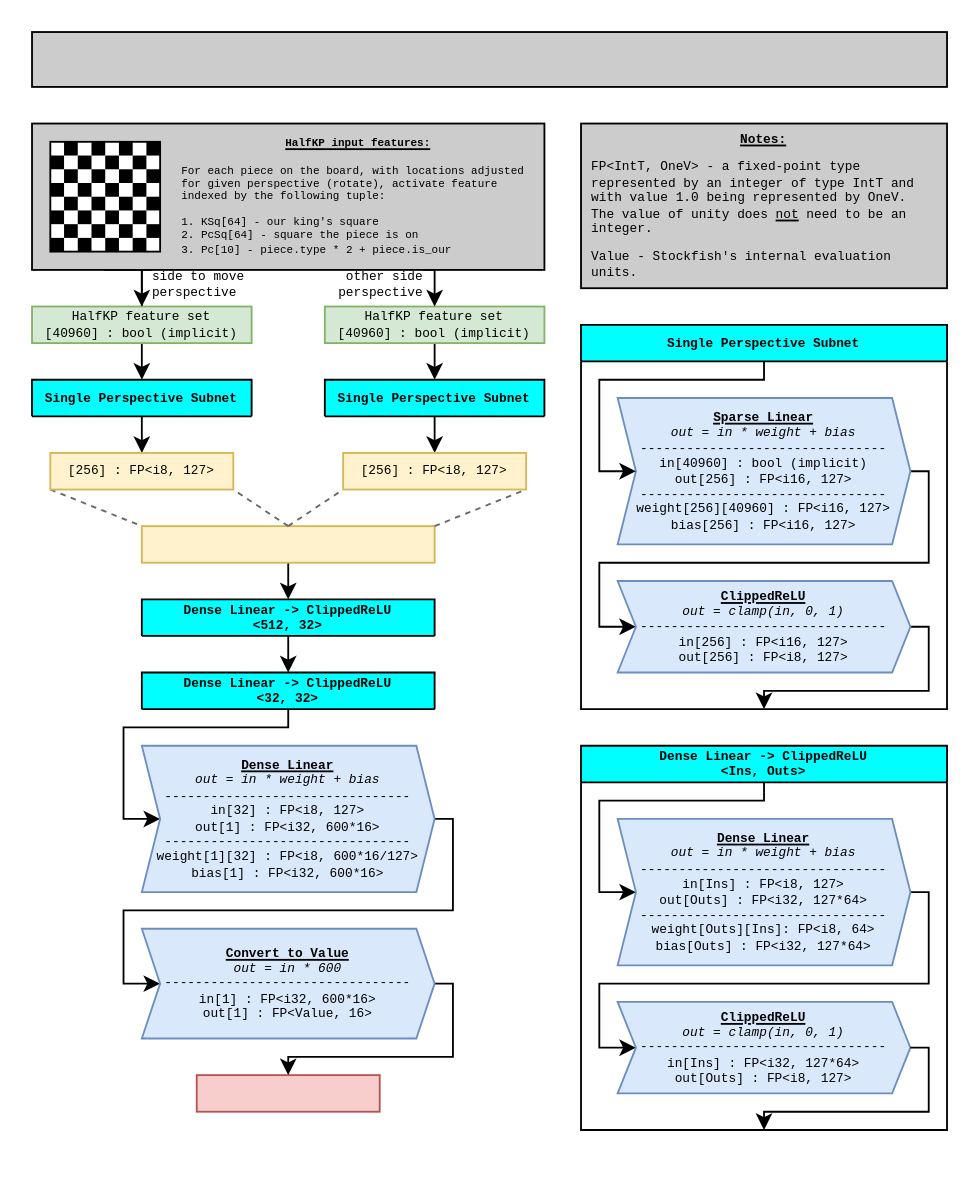
The diagram is 979 pixels wide and 1177 high, and some of its shapes have lost their labels. The shapes that lost their labels are listed below. From the top down, each one's centre as x and y in pixels, then its label:
At point (488, 58): "Stockfish SFNNv1 evaluation network diagram".
At point (287, 543): "[512] : FP<i8, 127>".
At point (287, 1092): "[1] : FP<Value, 16>".
